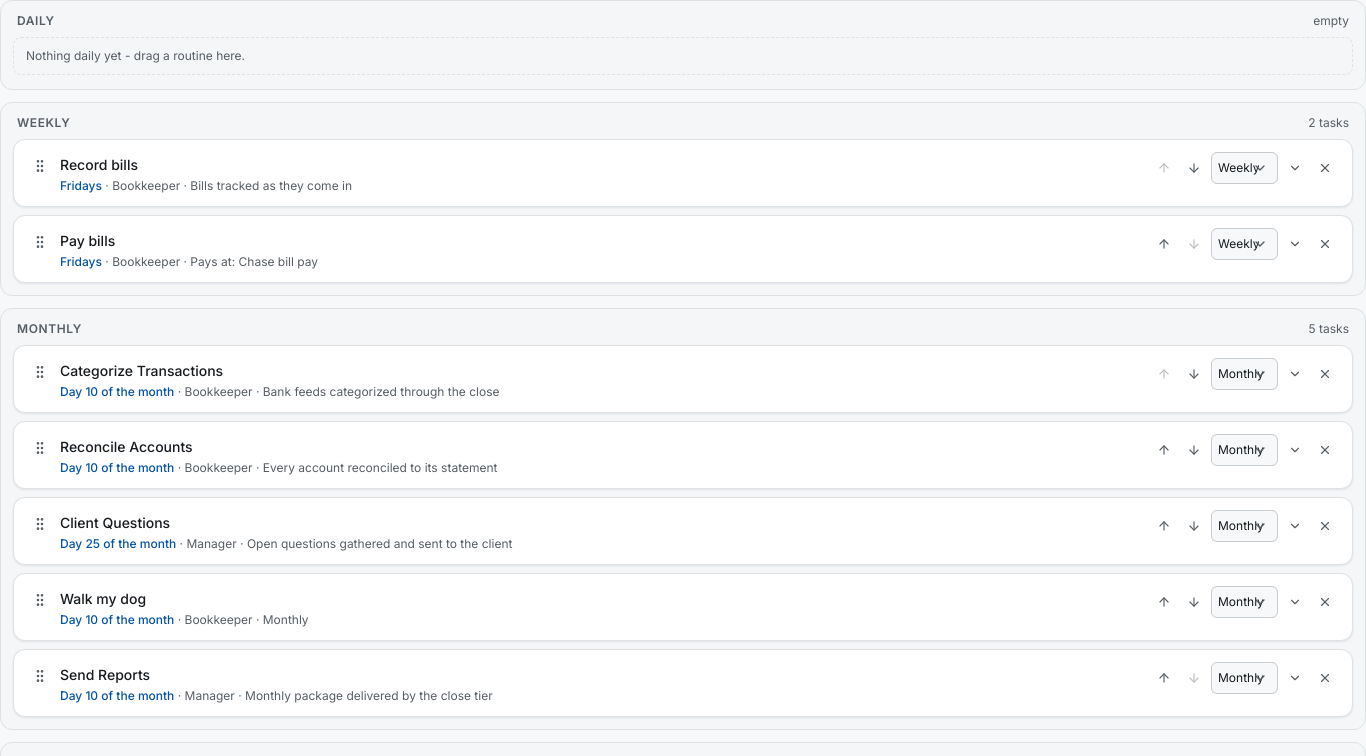
it: L1/H2: scheduler_x_unticks_the_service (10_06 00:42:51) › X on a standard routine persists an exclusion (never re-derives)
Click the button with test id "remove-reconcile_accounts".
click(1325, 450)  # box [1312,437,1338,463]
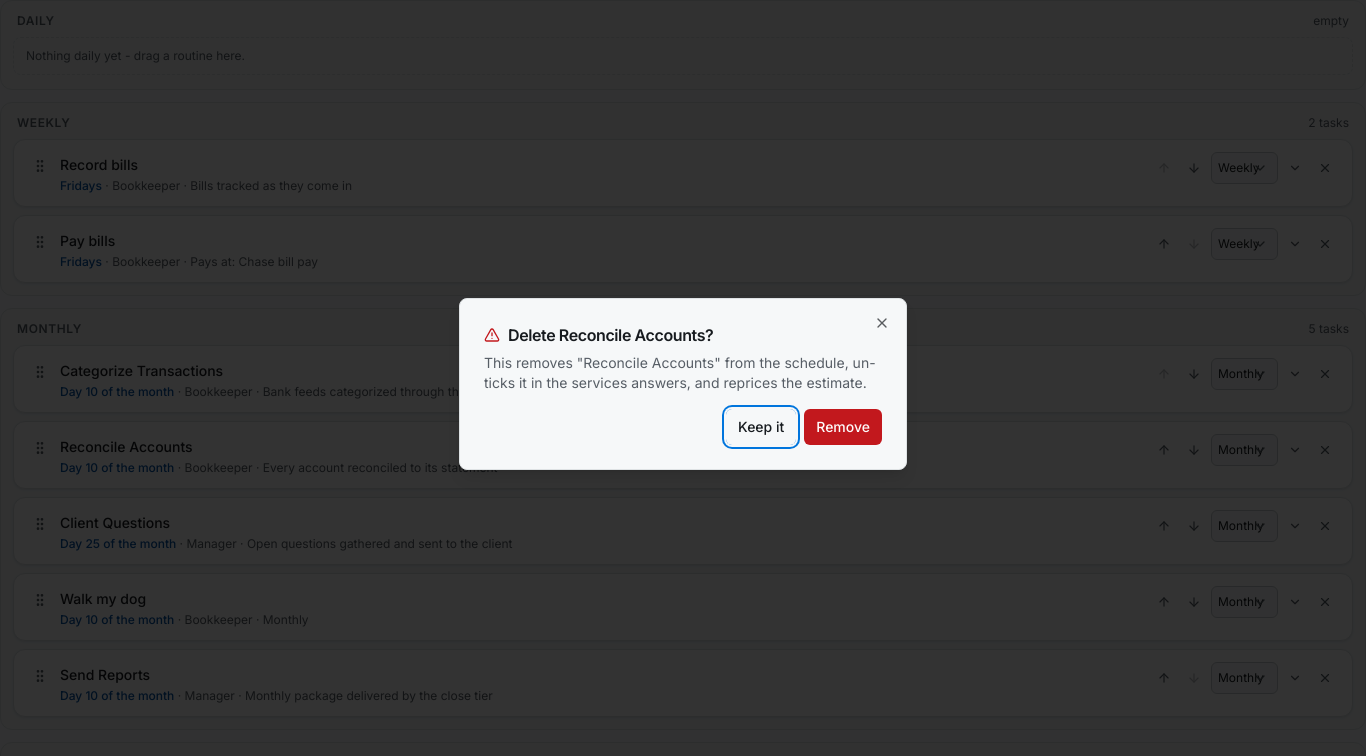
Click the button with test id "confirm-delete-confirm".
click(843, 427)  # box [804,409,882,445]
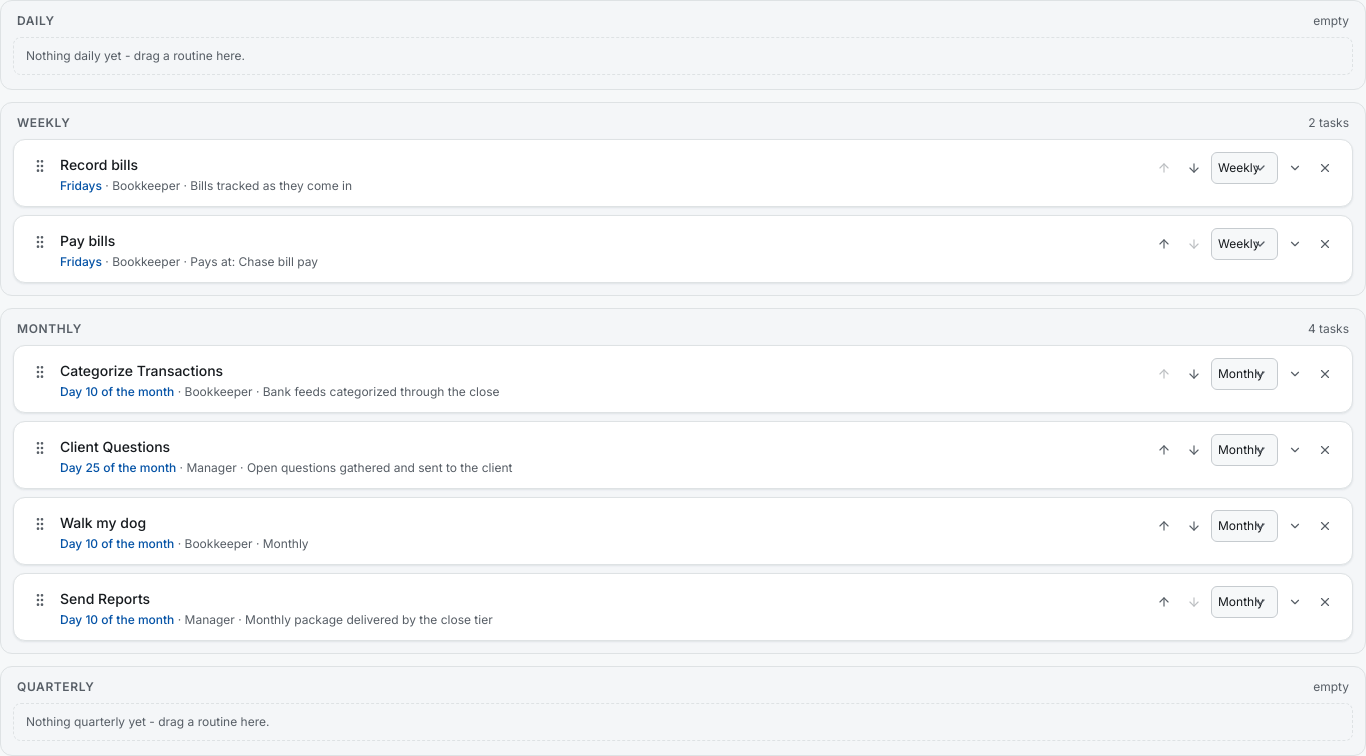
Expected: the list item with test id "routine-card-reconcile_accounts" is gone
